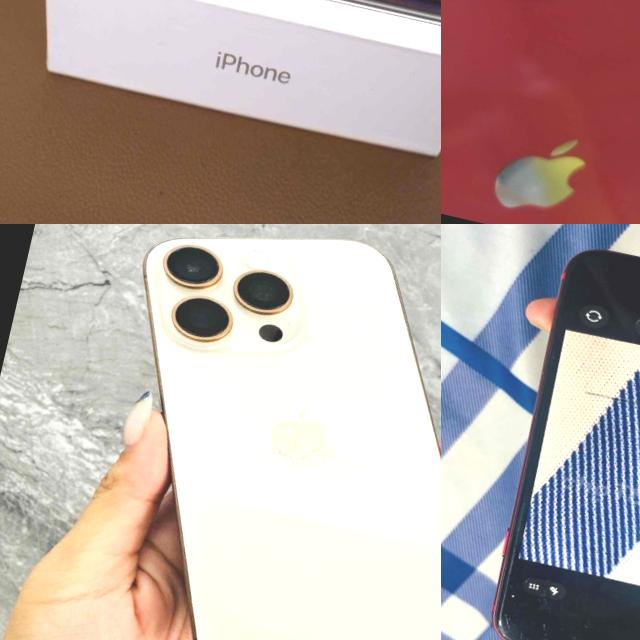gen_11: (441, 0, 640, 224)
gen_16: (52, 224, 441, 640)
gen_7_8: (465, 224, 640, 640)
gen_x_xs: (56, 0, 441, 74)
scratch: (486, 582, 531, 640)
